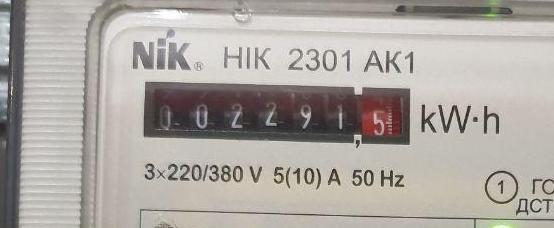0: (155, 101, 173, 130), (193, 101, 209, 130)
1: (332, 100, 346, 134)
2: (228, 101, 244, 130), (263, 99, 277, 128)
5: (370, 107, 386, 137)
9: (297, 101, 313, 131)
screen: (138, 76, 415, 152)
